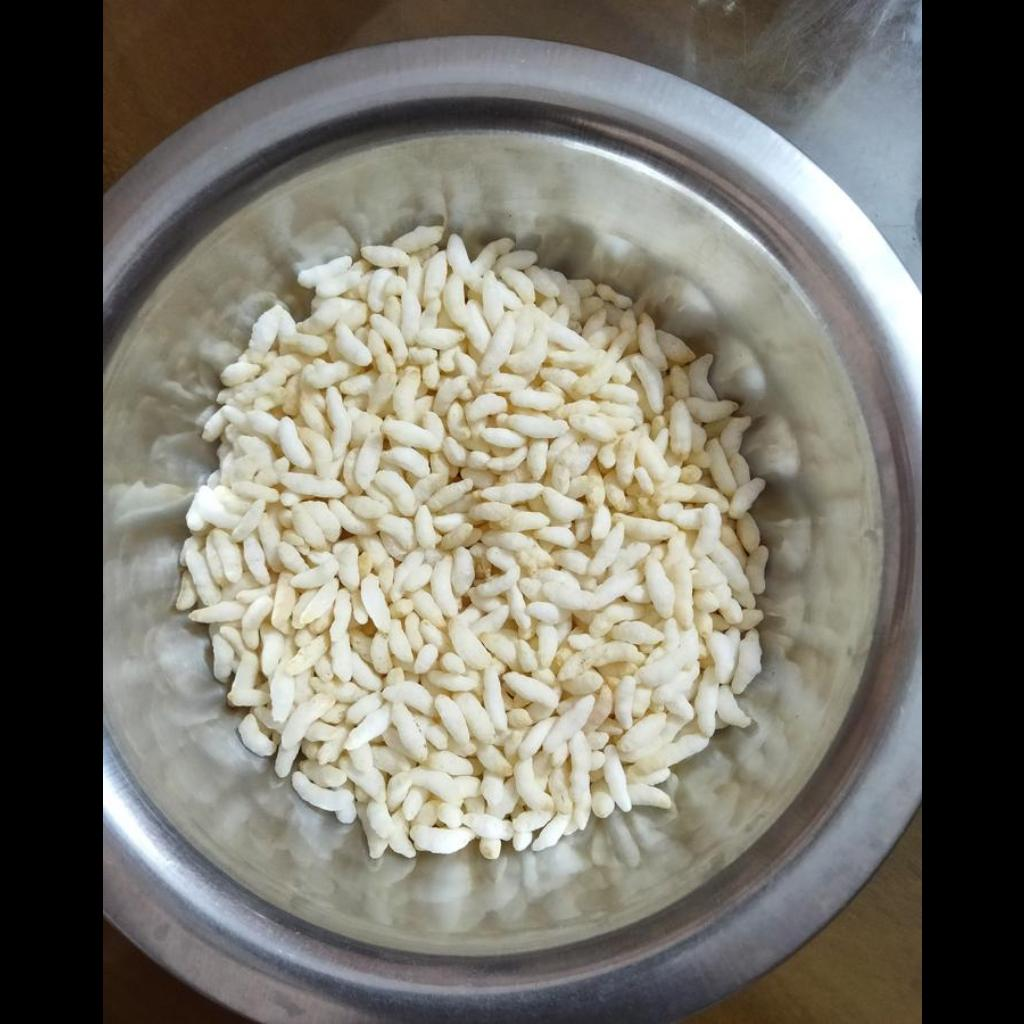puffed-rice: (187, 229, 768, 863)
